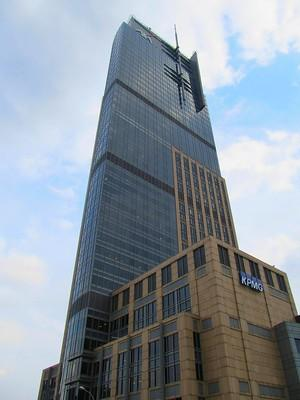building: (36, 9, 244, 398)
